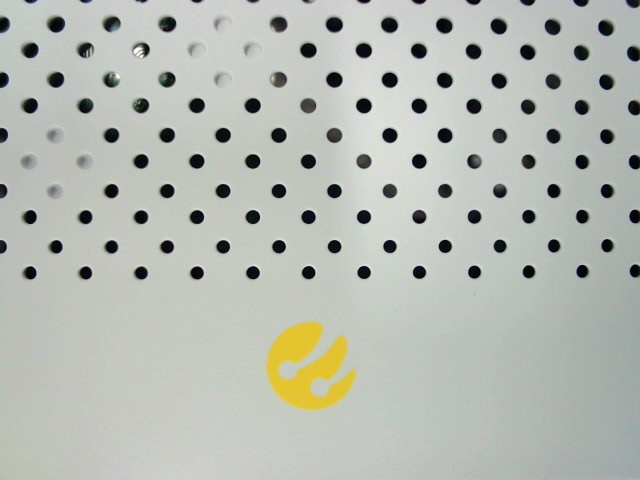AV_H3600Yellow: (244, 311, 385, 416)
